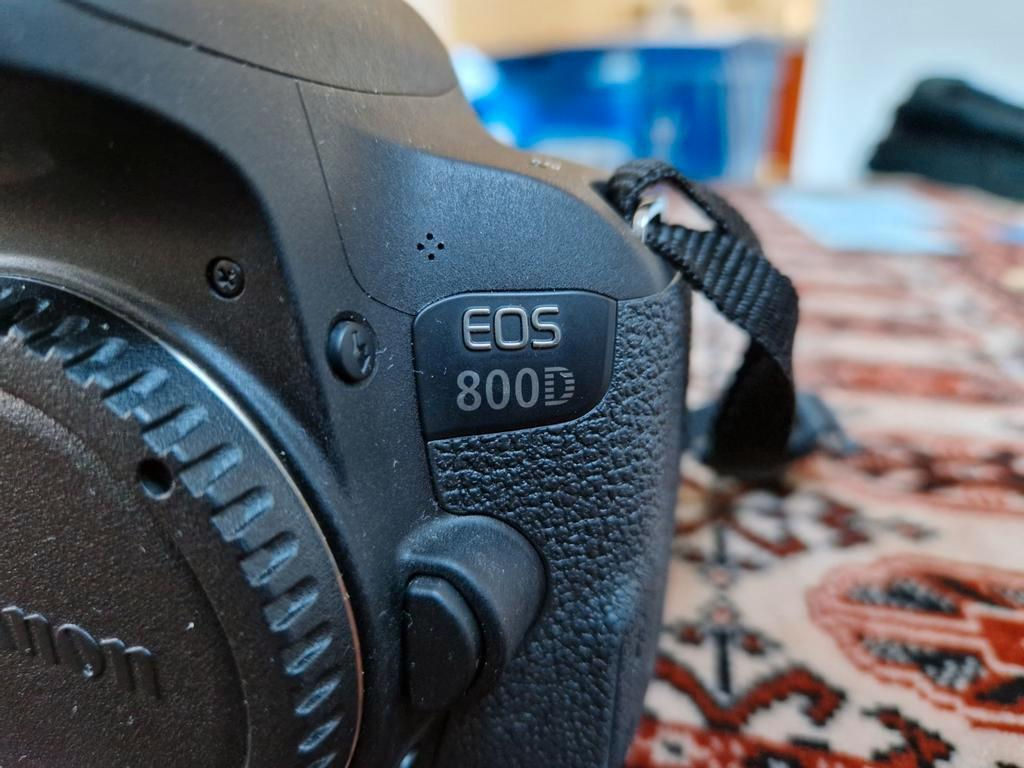camera: (0, 0, 693, 767)
